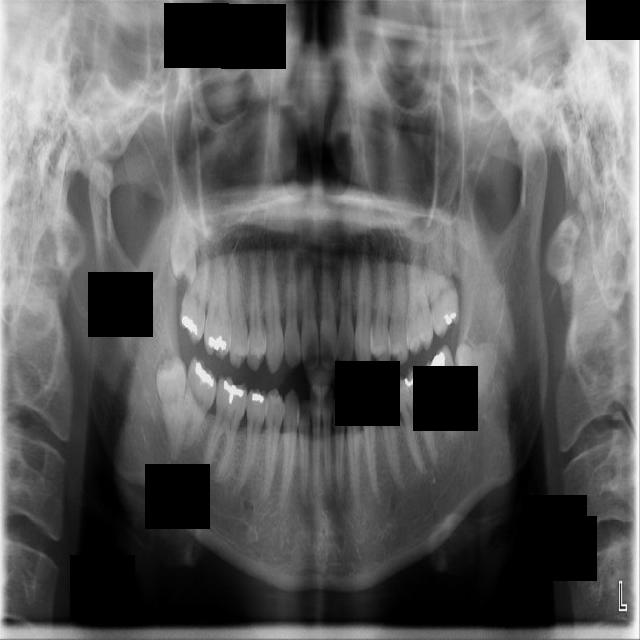3M ESPE Implant: (166, 201, 197, 285)
52: (179, 351, 227, 413), (421, 342, 458, 403), (391, 365, 429, 417), (215, 374, 249, 426), (201, 310, 235, 360), (178, 290, 208, 345), (431, 287, 460, 339), (242, 386, 271, 429)
73: (612, 568, 612, 577)
BioHorizons Implant: (421, 210, 463, 340)
Biomet 3i Implant: (450, 342, 498, 410)
Blue Sky Bio Implant: (417, 343, 468, 448)
Caries: (176, 253, 213, 346)
Implant: (170, 354, 224, 455)
Keystone Dental Implant: (154, 353, 193, 461)
